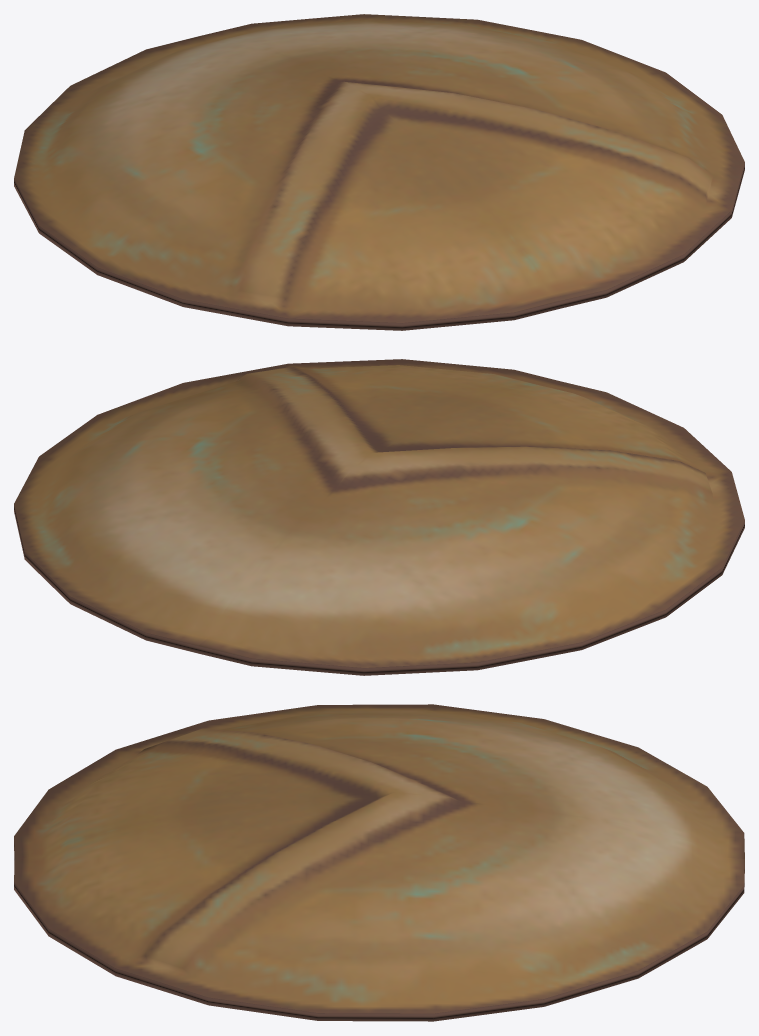
The model's file is SM_shield.fbx.
The picture shows the model from 3 angles, top to bottom: view 1: azimuth 30°, elevation 25°; view 2: azimuth 150°, elevation 25°; view 3: azimuth 270°, elevation 25°; orthographic projection.
Parts seen in each view (by area): view 1: shield_GEO; view 2: shield_GEO; view 3: shield_GEO.
Boxes of the visible parts, left/top/right/bottom form: shield_GEO: left=14, top=14, right=744, bottom=330; shield_GEO: left=14, top=359, right=744, bottom=675; shield_GEO: left=14, top=704, right=744, bottom=1021.
Bounding box in the file's own units: 11.79 × 1.59 × 11.79.
